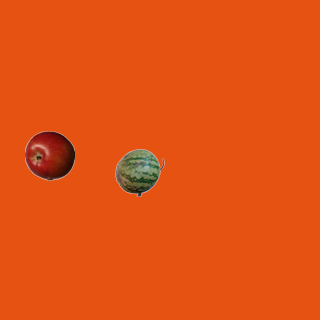Apple Braeburn: (24, 130, 74, 180)
Watermelon: (114, 147, 164, 197)
